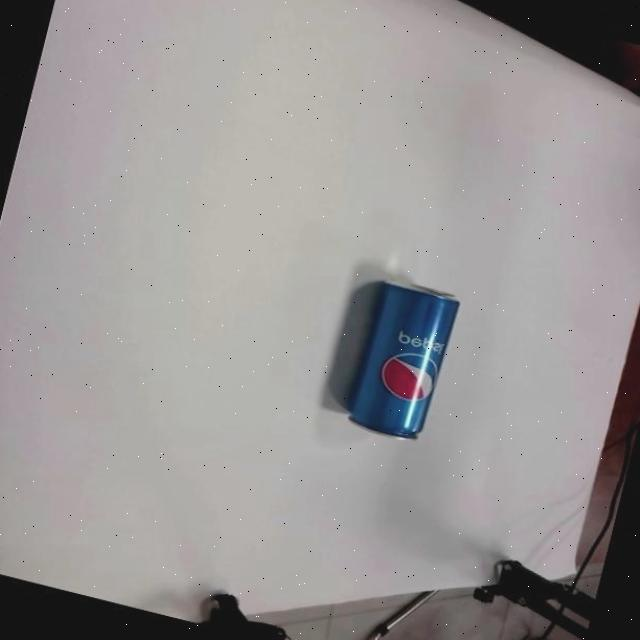debris: (340, 273, 462, 445)
